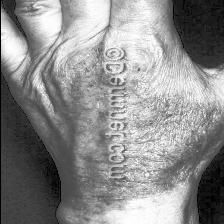Non-Cancerous Skin Condition: (119, 39, 224, 224), (23, 48, 116, 224)
